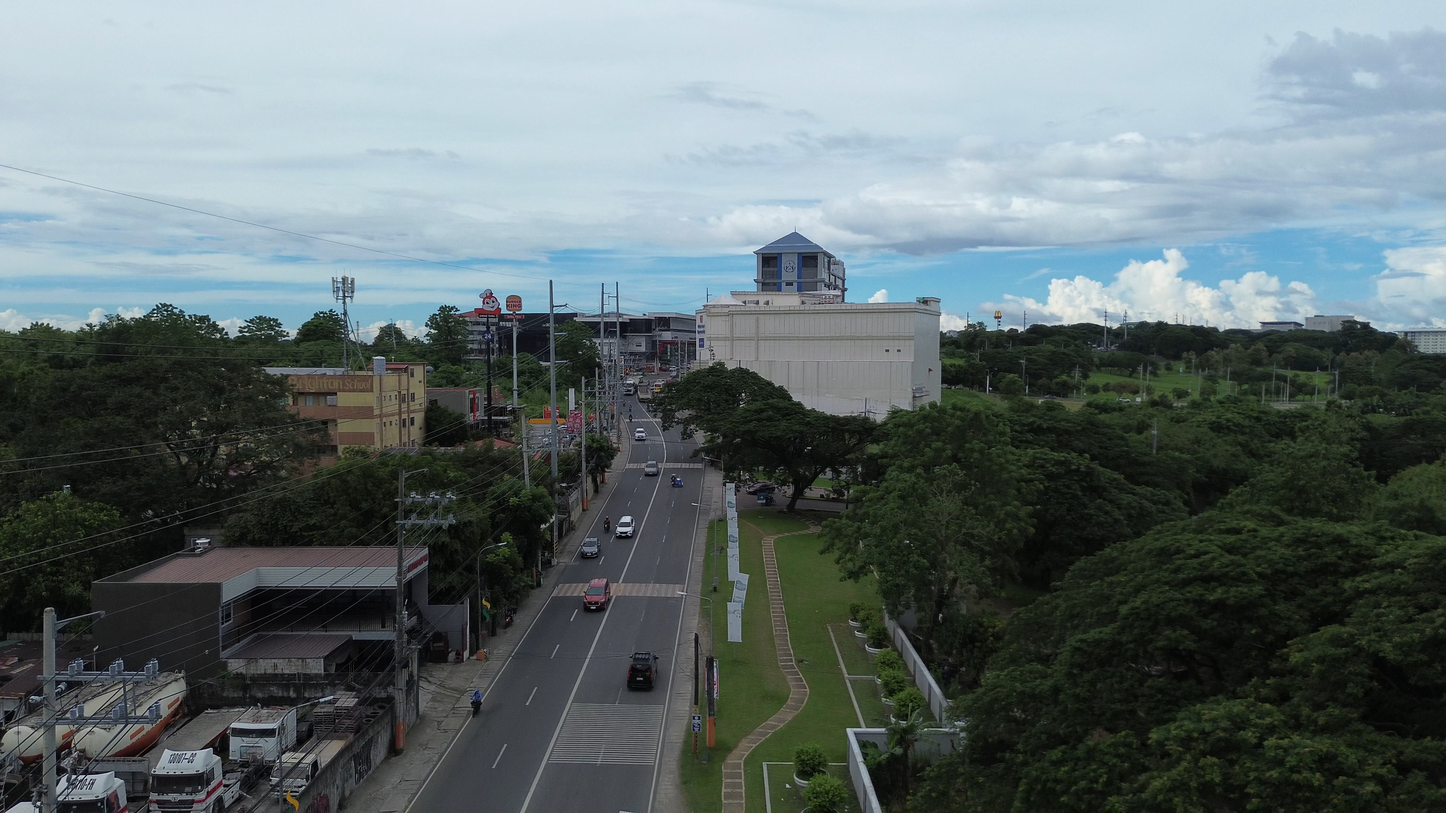car: (583, 577, 611, 610), (579, 537, 600, 557), (615, 515, 633, 537), (644, 461, 660, 476), (633, 428, 647, 441)
truck: (56, 772, 139, 813)
vehicle: (149, 748, 241, 813), (228, 708, 297, 764), (56, 772, 129, 813), (271, 750, 321, 797), (626, 652, 658, 690), (746, 481, 776, 494), (757, 491, 775, 505), (624, 383, 636, 395), (671, 475, 682, 487), (652, 383, 662, 394)
